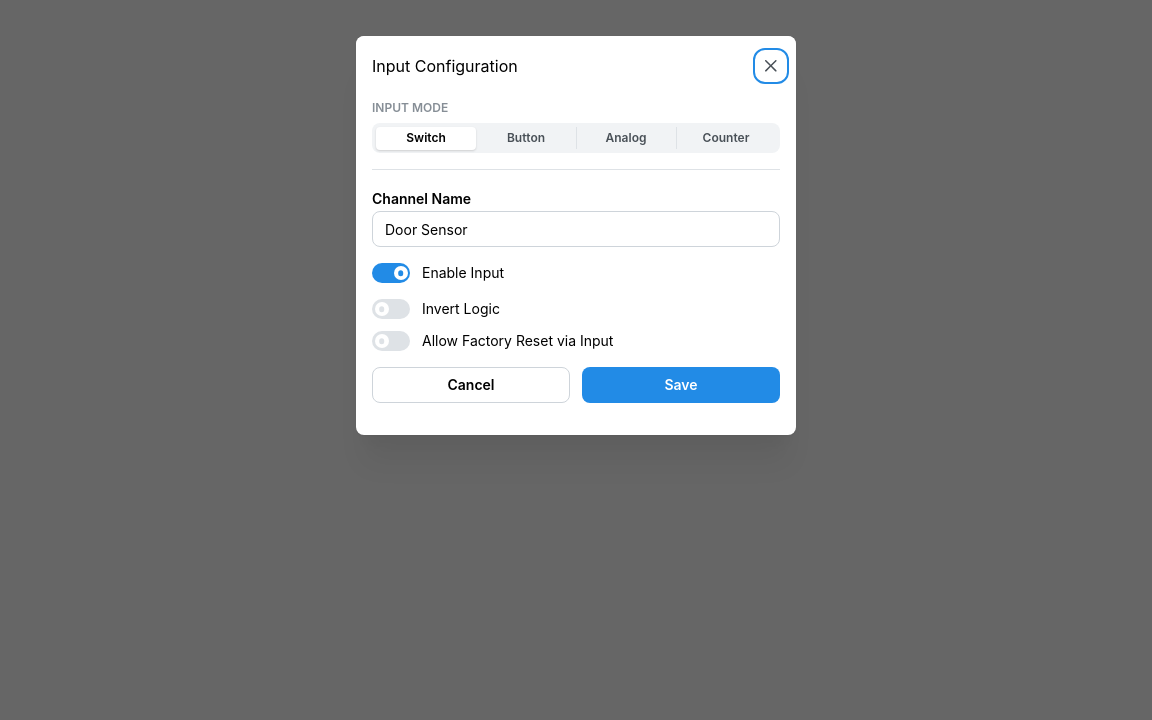
Test: InputConfigPanel › shows count-specific fields when Counter segment is selected
Click the text "Counter": x=726, y=137 [703,130,749,145]
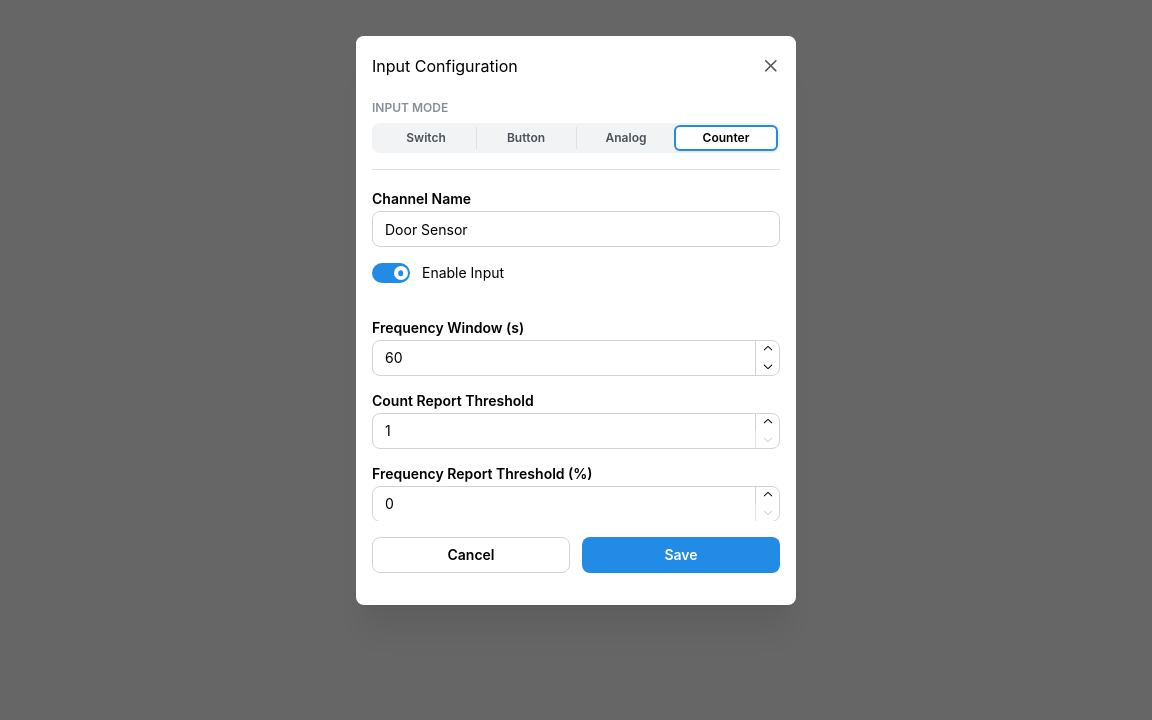
Now the field labelled "Frequency Window (s)" is shown, box [372,340,780,376]
Now the field labelled "Count Report Threshold" is shown, box [372,413,780,449]
Now the field labelled "Frequency Report Threshold (%)" is shown, box [372,486,780,521]
